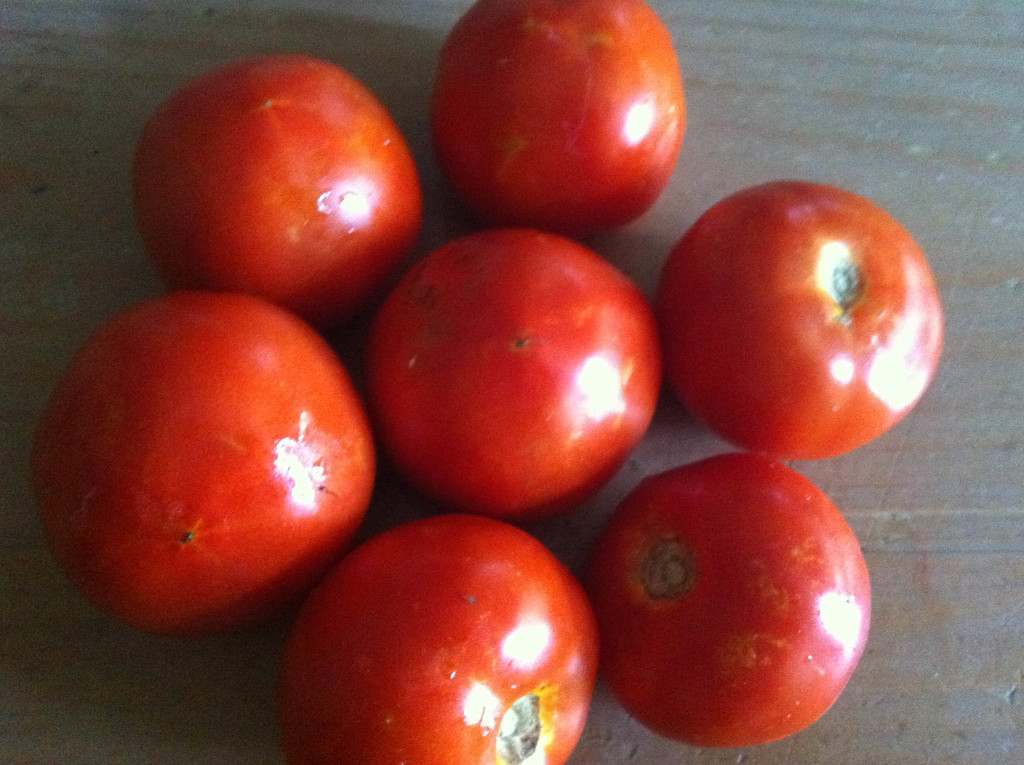Tomato: (36, 0, 874, 758), (675, 172, 947, 477)
